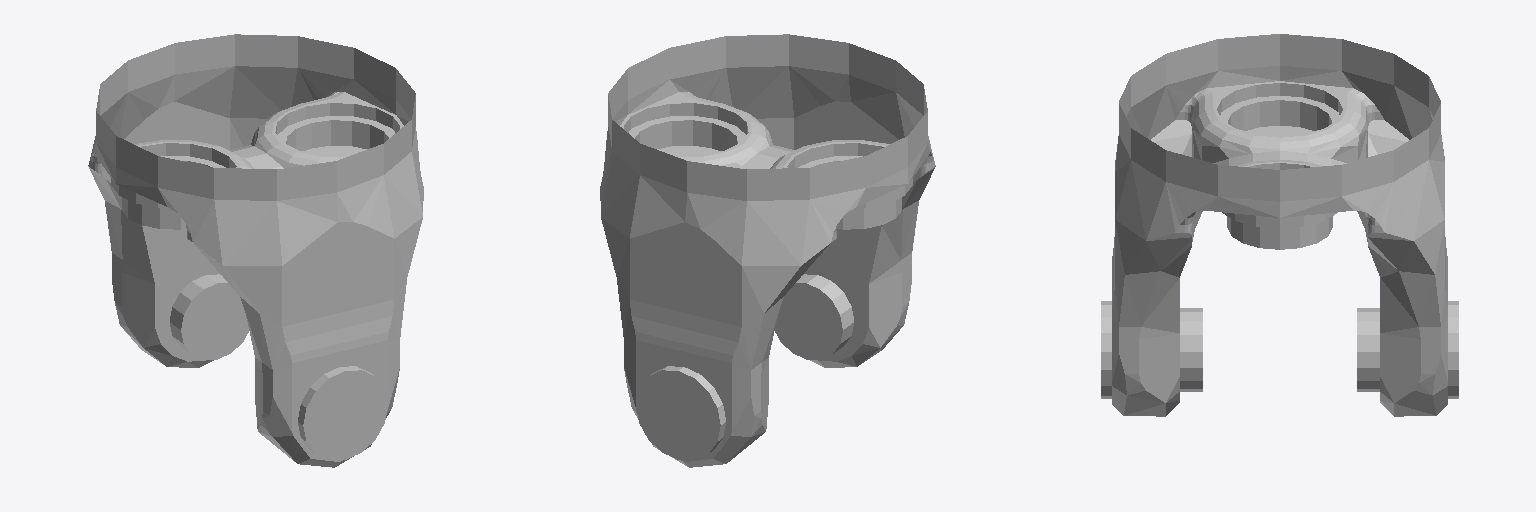
File: geo-e0665d1c-a6f4-4e8c-bd83-ccd42e3ddc86.obj
3 views of the same model, side by side, from view 1: azimuth 30°, elevation 25°; view 2: azimuth 150°, elevation 25°; view 3: azimuth 270°, elevation 25° (orthographic).
Visible parts, largest first — view 1: 0; view 2: 0; view 3: 0.
Part boxes in pixels (bbox=[...]): 0: bbox=[88, 34, 423, 467]; 0: bbox=[600, 34, 935, 467]; 0: bbox=[1101, 34, 1458, 416].
Size of the model in its own units: 46.31 by 48.5 by 51.2.